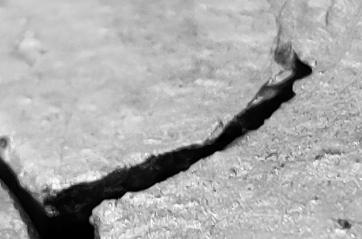crack: (1, 1, 362, 239)
